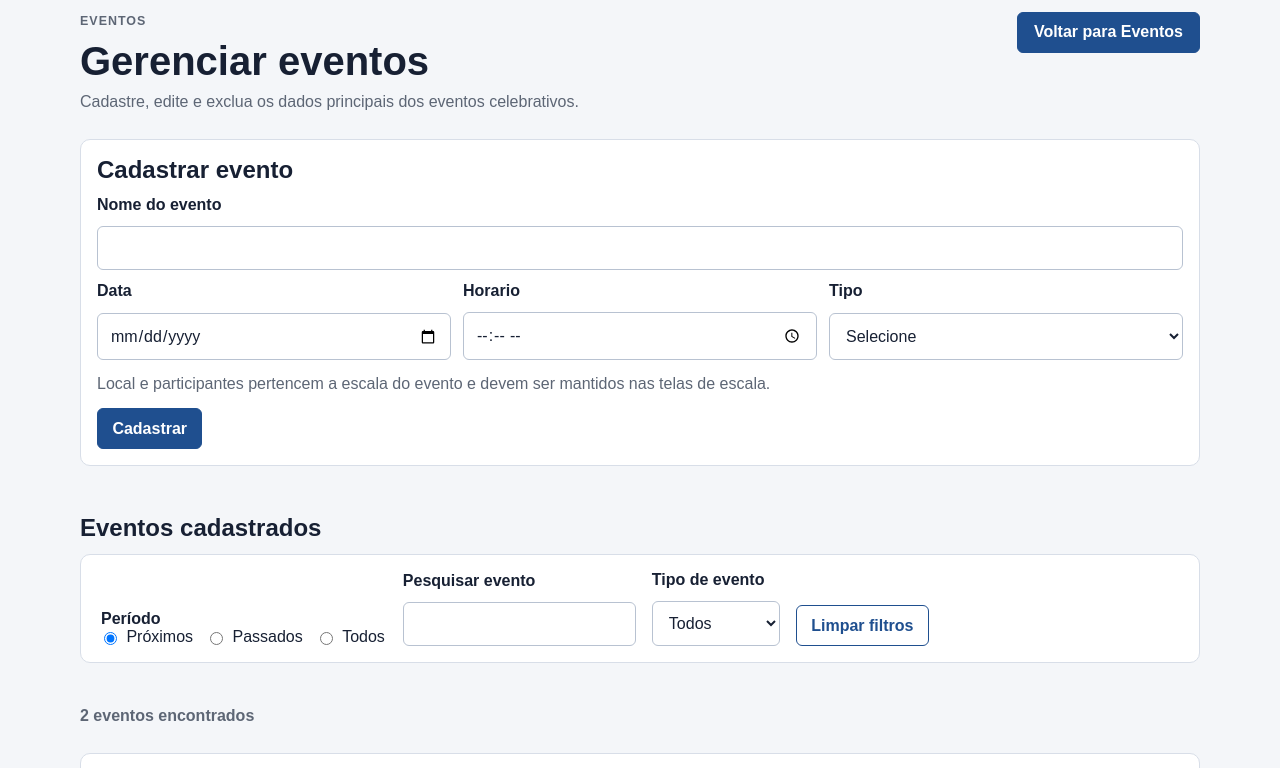
Scenario: EventManagementComponent › should not submit invalid forms and should mark fields as touched
The image size is (1280, 768).
What coordinates should you click on to do the following:
click the button "Cadastrar"
I would click on:
 (150, 429)
Its box is [97,408,202,449].
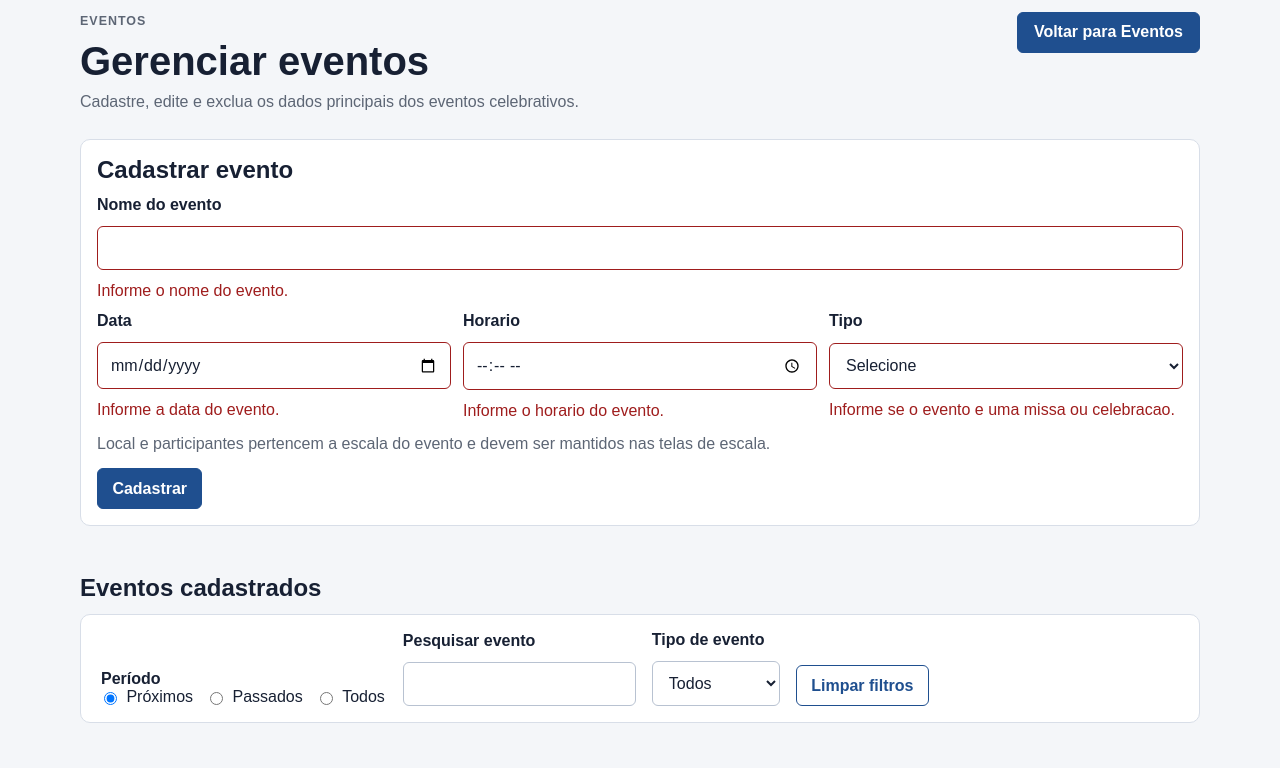
expect the text "Informe o nome do evento." is shown: met, box [97,282,288,298]
expect the text "Informe a data do evento." is shown: met, box [97,401,279,418]
expect the text "Informe o horario do evento." is shown: met, box [463,402,664,419]
